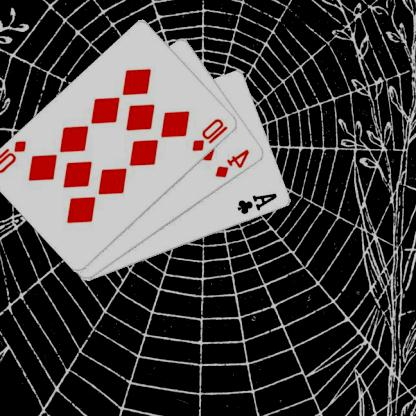10D: (191, 116, 231, 152), (0, 138, 30, 174)
4D: (214, 146, 253, 179)
AC: (237, 190, 280, 216)
